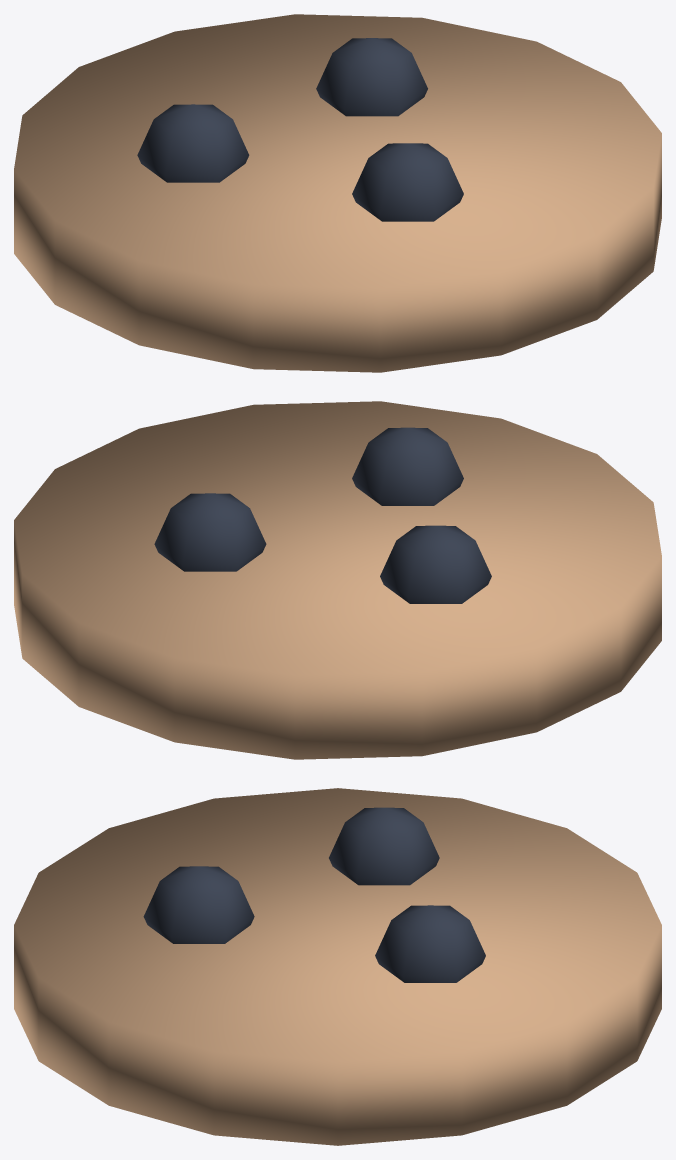
File: food_cookie.glb
3 views of the same model, one above another, from view 1: azimuth 30°, elevation 25°; view 2: azimuth 150°, elevation 25°; view 3: azimuth 270°, elevation 25° (orthographic).
Parts seen in each view (by area): view 1: food_cookie, food_cookie_dot0, food_cookie_dot2, food_cookie_dot1; view 2: food_cookie, food_cookie_dot0, food_cookie_dot1, food_cookie_dot2; view 3: food_cookie, food_cookie_dot1, food_cookie_dot2, food_cookie_dot0.
Part boxes in pixels (x1,y1,x2,y2): food_cookie: [14, 14, 661, 372]; food_cookie_dot0: [316, 38, 427, 116]; food_cookie_dot2: [352, 143, 463, 221]; food_cookie_dot1: [137, 104, 249, 182]; food_cookie: [14, 401, 661, 759]; food_cookie_dot0: [154, 493, 266, 571]; food_cookie_dot1: [380, 525, 491, 603]; food_cookie_dot2: [352, 427, 463, 505]; food_cookie: [14, 788, 661, 1145]; food_cookie_dot1: [329, 807, 439, 885]; food_cookie_dot2: [143, 866, 254, 943]; food_cookie_dot0: [375, 905, 485, 982].
Bounding box in the file's own units: 0.14 × 0.034 × 0.14.
